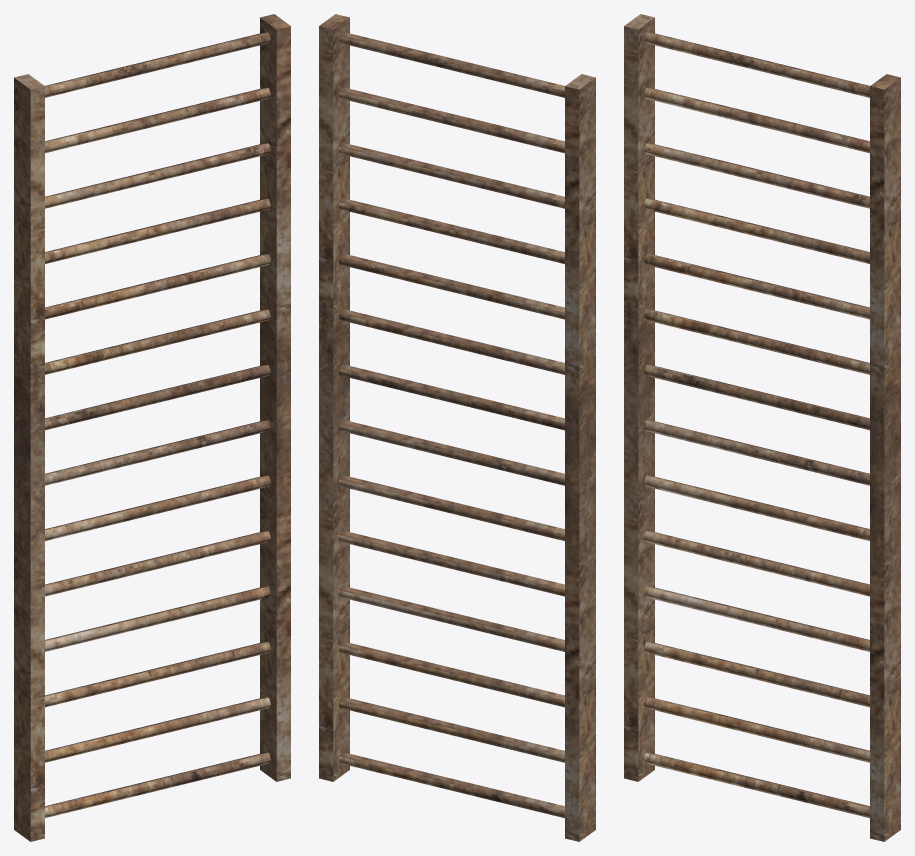
File: _SportsHall_Ladder_01.FBX
3 renders of one model, left to right at view 1: azimuth 30°, elevation 25°; view 2: azimuth 150°, elevation 25°; view 3: azimuth 330°, elevation 25°, orthographic.
Parts seen in each view (by area): view 1: _SportsHall_Ladder_01; view 2: _SportsHall_Ladder_01; view 3: _SportsHall_Ladder_01.
Part boxes in pixels (x1,y1,x2,y2): _SportsHall_Ladder_01: (14, 14, 290, 841); _SportsHall_Ladder_01: (319, 14, 595, 841); _SportsHall_Ladder_01: (624, 14, 900, 841).
Bounding box in the file's own units: 72.72 × 201 × 8.
1 material, 1 textured.
